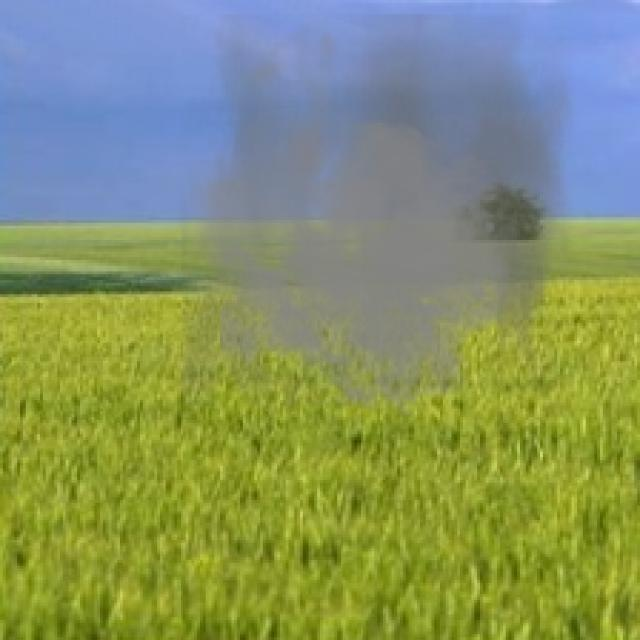smoke: (177, 14, 574, 420)
